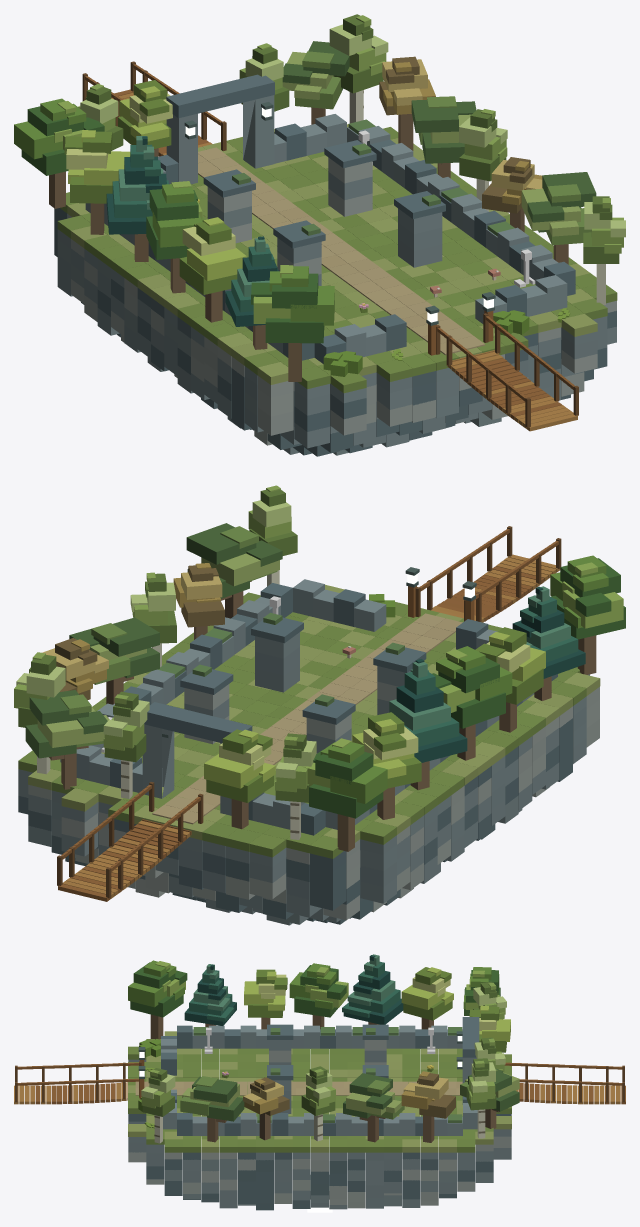
Rendered from room_pillars_purified.glb.
3 views of the same model, one above another, from view 1: azimuth 30°, elevation 25°; view 2: azimuth 150°, elevation 25°; view 3: azimuth 270°, elevation 25° (orthographic). The views are drawn at different scales.
Parts seen in each view (by area): view 1: room_pillars_blocks, tree0_(0, 0).001, tree0_(0, 0).003, tree3_(0, 0).001, tree4_(0, 0).001, tree2_(0, 0).002, tree4_(0, 0).002, tree0_(0, 0).002, tree3_(0, 0).003, tree1_(0, 0).003, tree3_(0, 0).002, tree5_(0, 0).002 (+9 smaller); view 2: room_pillars_blocks, tree0_(0, 0).003, tree0_(0, 0).001, tree0_(0, 0).002, tree2_(0, 0).002, tree3_(0, 0).003, tree3_(0, 0).001, tree4_(0, 0).003, tree3_(0, 0).002, tree2_(0, 0).001, tree4_(0, 0).002, tree4_(0, 0).001 (+7 smaller); view 3: room_pillars_blocks, tree0_(0, 0).001, tree2_(0, 0).002, tree0_(0, 0).002, tree3_(0, 0).001, tree3_(0, 0).002, tree4_(0, 0).002, tree5_(0, 0).002, tree2_(0, 0).001, tree4_(0, 0).001, tree1_(0, 0).003, tree5_(0, 0).001 (+7 smaller).
Boxes of the visible parts, x1,y1,x2,y2 form: room_pillars_blocks: [54, 61, 617, 456]; tree0_(0, 0).001: [251, 265, 334, 381]; tree0_(0, 0).003: [14, 98, 104, 208]; tree3_(0, 0).001: [521, 172, 596, 264]; tree4_(0, 0).001: [179, 217, 246, 322]; tree2_(0, 0).002: [106, 136, 168, 261]; tree4_(0, 0).002: [64, 130, 130, 234]; tree0_(0, 0).002: [146, 181, 203, 293]; tree3_(0, 0).003: [282, 41, 349, 124]; tree1_(0, 0).003: [329, 14, 388, 123]; tree3_(0, 0).002: [411, 96, 476, 178]; tree5_(0, 0).002: [379, 56, 435, 150]; room_pillars_blocks: [18, 526, 600, 925]; tree0_(0, 0).003: [303, 738, 387, 851]; tree0_(0, 0).001: [550, 555, 625, 674]; tree0_(0, 0).002: [432, 646, 512, 760]; tree2_(0, 0).002: [389, 659, 467, 790]; tree3_(0, 0).003: [25, 690, 109, 789]; tree3_(0, 0).001: [186, 523, 282, 618]; tree4_(0, 0).003: [204, 729, 275, 829]; tree3_(0, 0).002: [69, 617, 159, 704]; tree2_(0, 0).001: [512, 586, 585, 700]; tree4_(0, 0).002: [352, 712, 421, 819]; tree4_(0, 0).001: [475, 627, 545, 732]; room_pillars_blocks: [14, 1017, 625, 1212]; tree0_(0, 0).001: [128, 960, 187, 1039]; tree2_(0, 0).002: [342, 954, 403, 1024]; tree0_(0, 0).002: [289, 963, 348, 1029]; tree3_(0, 0).001: [180, 1076, 244, 1142]; tree3_(0, 0).002: [343, 1073, 404, 1142]; tree4_(0, 0).002: [401, 967, 453, 1029]; tree5_(0, 0).002: [401, 1071, 455, 1142]; tree2_(0, 0).001: [184, 964, 236, 1027]; tree4_(0, 0).001: [244, 969, 287, 1029]; tree1_(0, 0).003: [466, 1058, 496, 1138]; tree5_(0, 0).001: [243, 1077, 289, 1140].
Bounding box in the file's own units: 19.1 × 14.02 × 38.5.
